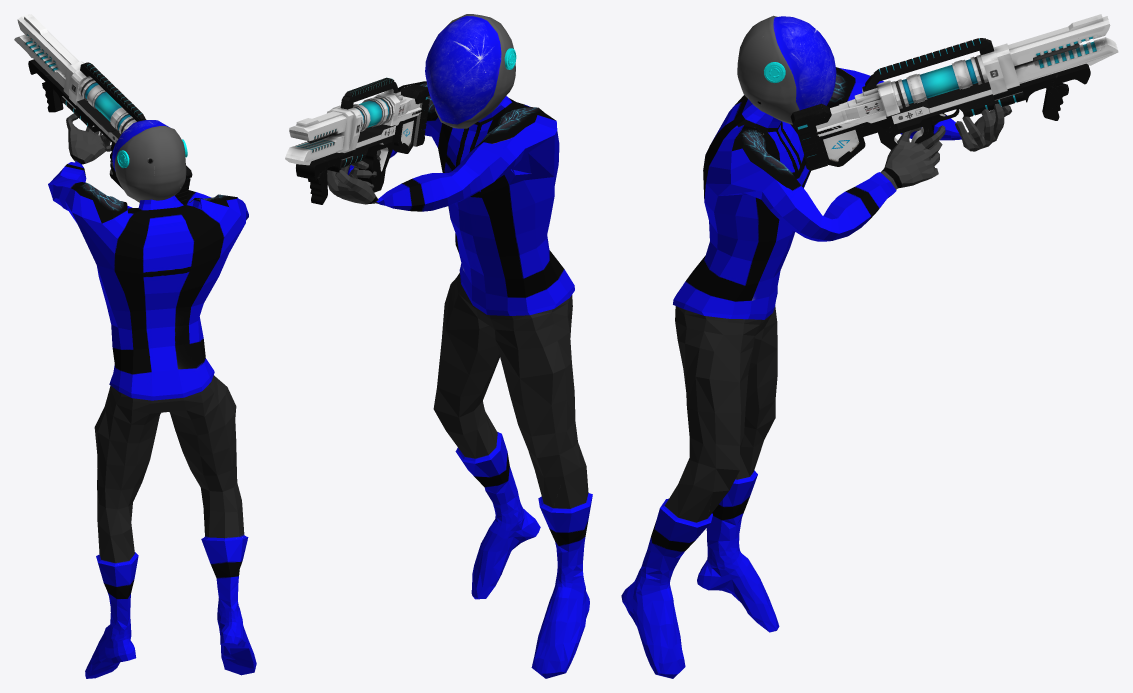
The picture shows the model from 3 angles, left to right: view 1: azimuth 30°, elevation 25°; view 2: azimuth 150°, elevation 25°; view 3: azimuth 270°, elevation 25°; orthographic projection. The views are drawn at different scales.
Parts seen in each view (by area): view 1: Brazos2, Piernas1, Line0011, Cabeza1; view 2: Piernas1, Brazos2, Line0011, Cabeza1; view 3: Piernas1, Brazos2, Line0011, Cabeza1.
Part boxes in pixels (left/top/right/bottom): Brazos2: left=48, top=113, right=248, bottom=400; Piernas1: left=85, top=375, right=256, bottom=678; Line0011: left=14, top=14, right=192, bottom=204; Cabeza1: left=112, top=120, right=187, bottom=202; Piernas1: left=433, top=272, right=592, bottom=678; Brazos2: left=327, top=81, right=574, bottom=315; Line0011: left=285, top=77, right=429, bottom=204; Cabeza1: left=425, top=14, right=516, bottom=128; Piernas1: left=621, top=306, right=779, bottom=678; Brazos2: left=673, top=67, right=1011, bottom=319; Line0011: left=790, top=14, right=1118, bottom=170; Cabeza1: left=737, top=15, right=836, bottom=124.
Size of the model in its own units: 64.96 by 189 by 130.
